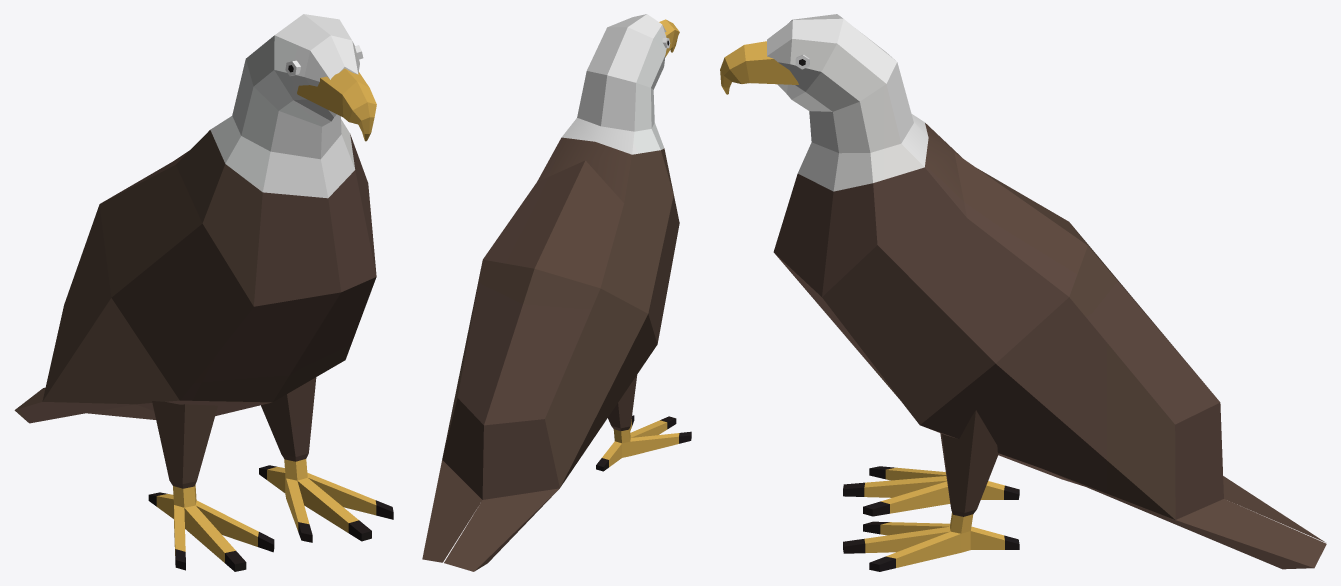
File: eagle.glb
3 renders of one model, left to right at view 1: azimuth 30°, elevation 25°; view 2: azimuth 150°, elevation 25°; view 3: azimuth 270°, elevation 25°, orthographic. The views are drawn at different scales.
Parts seen in each view (by area): view 1: Geo_Eagle; view 2: Geo_Eagle; view 3: Geo_Eagle.
Part boxes in pixels (box(x1,y1,x2,y2)): Geo_Eagle: box(14, 14, 393, 571); Geo_Eagle: box(422, 14, 691, 571); Geo_Eagle: box(720, 14, 1326, 571).
Size of the model in its own units: 0.2828 by 0.7 by 0.7223.
Materials: 1 (1 with a texture image).
